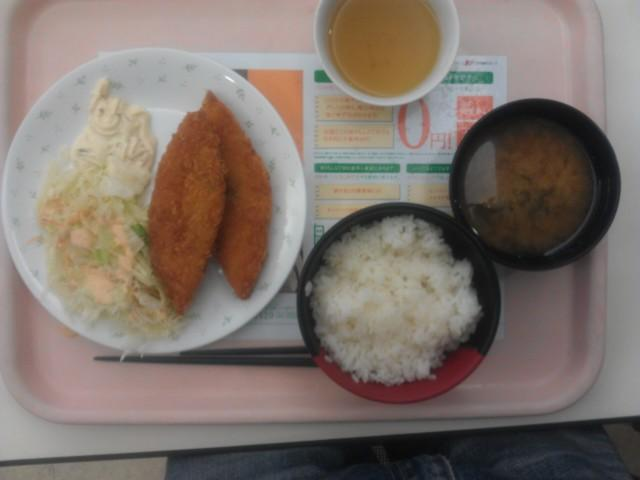rice: (0, 48, 306, 353)
